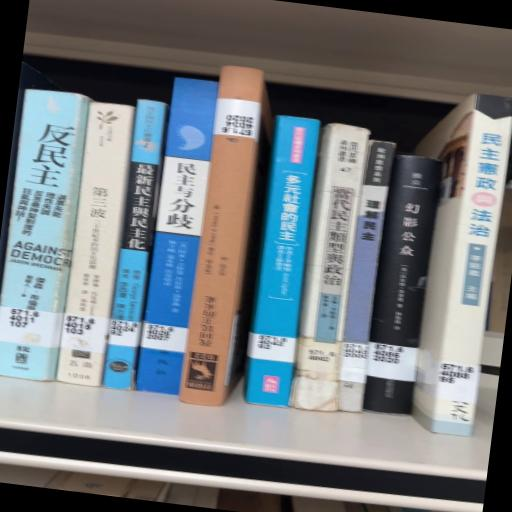reverse: (180, 67, 273, 407)
